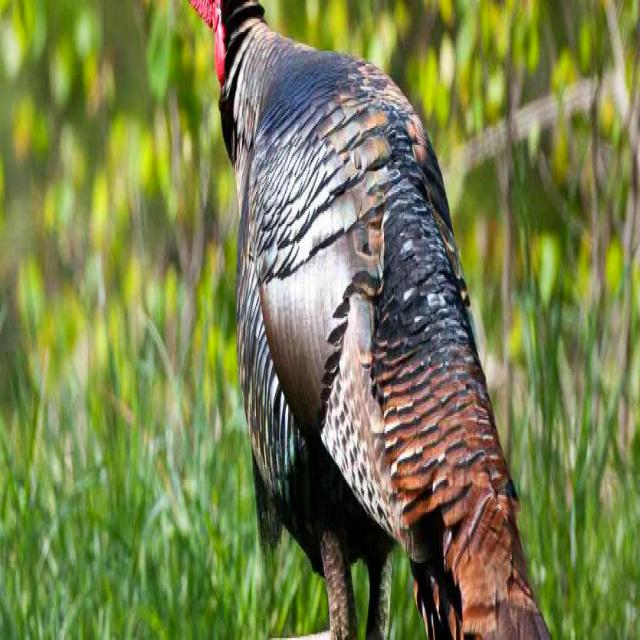turkey: (192, 0, 550, 638)
